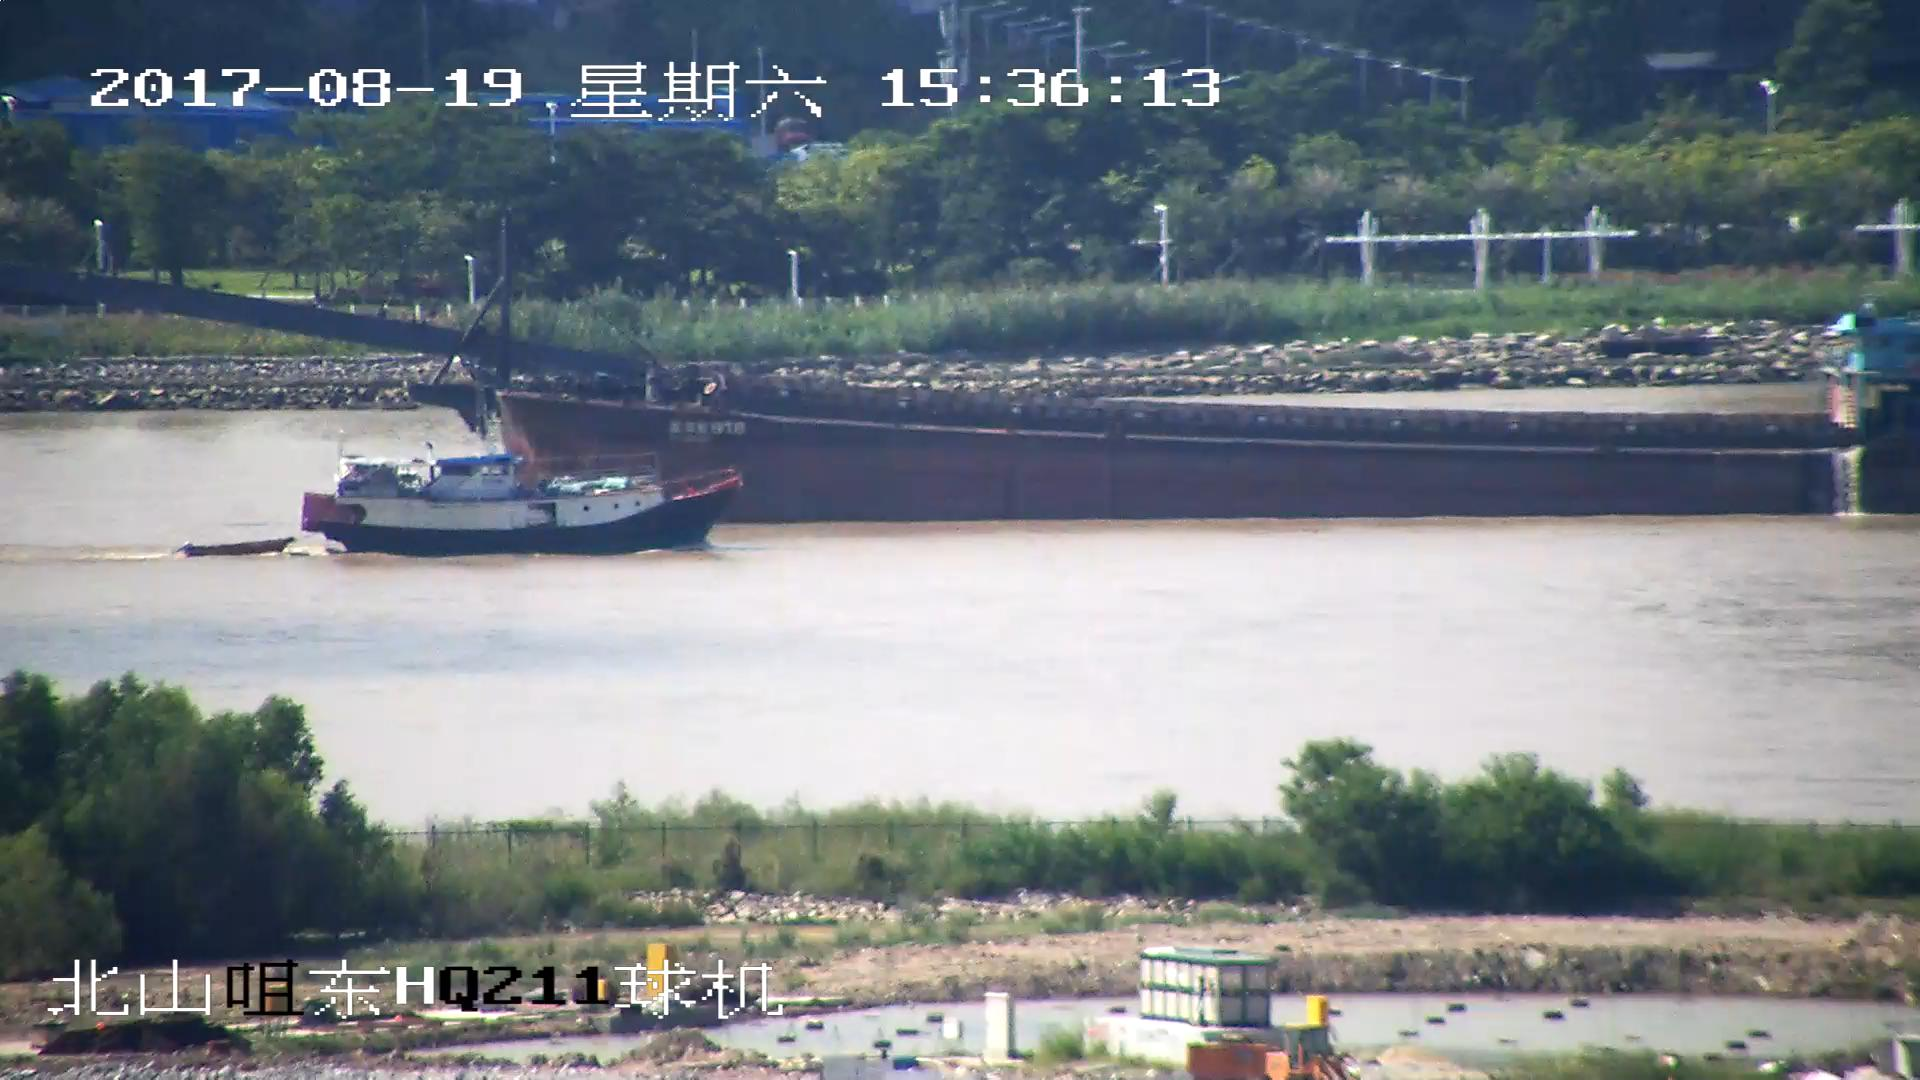bulk cargo carrier: (3, 265, 1920, 520)
fishing boat: (171, 448, 742, 560)
